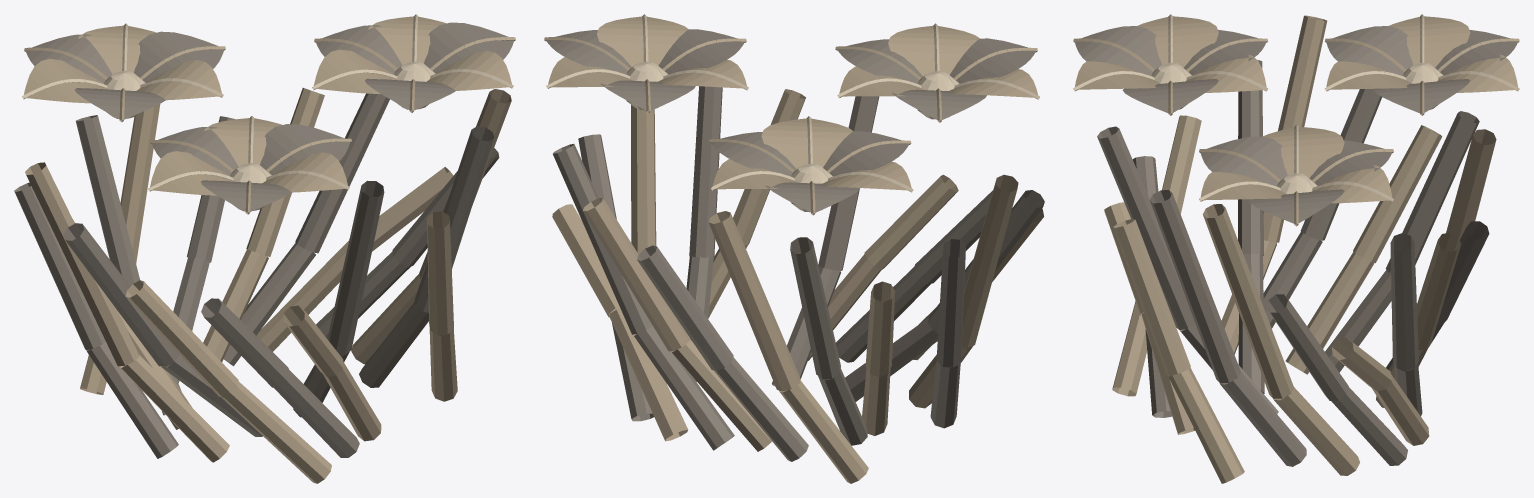
The model's file is vanilla.glb.
3 renders of one model, left to right at view 1: azimuth 30°, elevation 25°; view 2: azimuth 150°, elevation 25°; view 3: azimuth 270°, elevation 25°, orthographic.
Visible parts, largest first — view 1: vanilla; view 2: vanilla; view 3: vanilla.
Boxes of the visible parts, left/top/right/bottom form: vanilla: left=14, top=14, right=515, bottom=483; vanilla: left=544, top=14, right=1044, bottom=483; vanilla: left=1073, top=14, right=1519, bottom=483.
Bounding box in the file's own units: 1.14 × 0.7325 × 0.9227.
